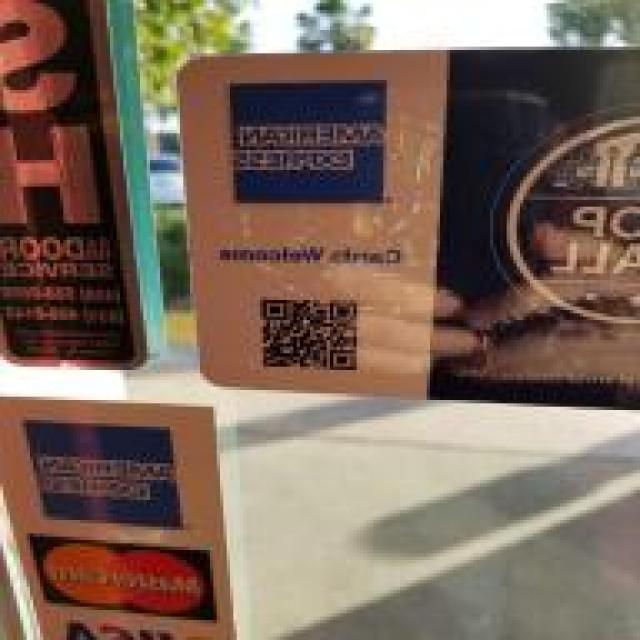QR_CODE: (252, 280, 370, 378)
